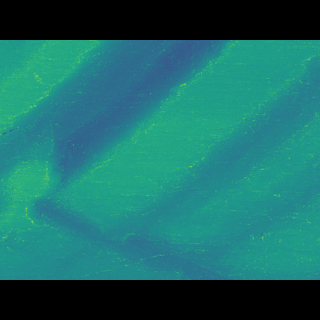Loch: (0, 69, 243, 217), (177, 79, 319, 193)
